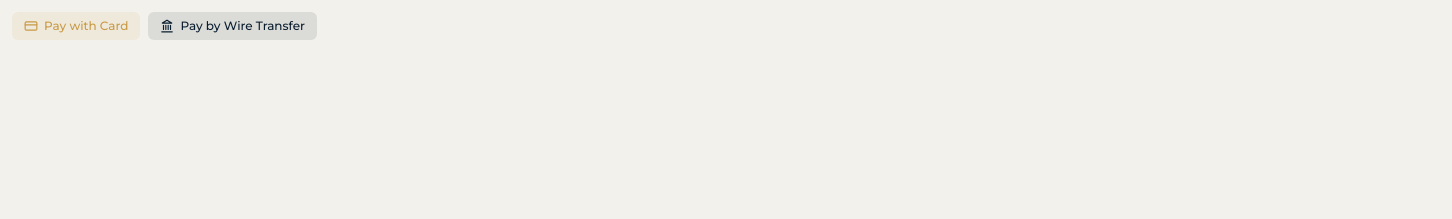
Test case: ReservationActions › wire transfer selection › posts to the payment-method endpoint and shows instructions
The image size is (1452, 219).
Click the button "Pay by Wire Transfer": [233, 26] box [148, 12, 317, 40]
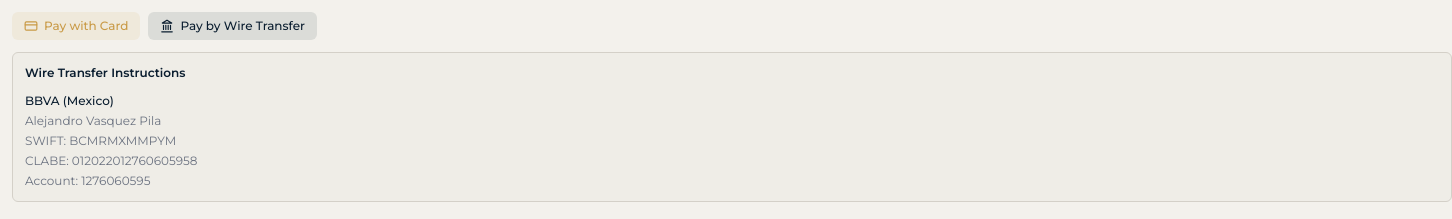
expect the text "Wire Transfer Instructions" is shown: met, box [25, 65, 186, 80]
expect the text "Alejandro Vasquez Pila" is shown: met, box [25, 113, 161, 128]
